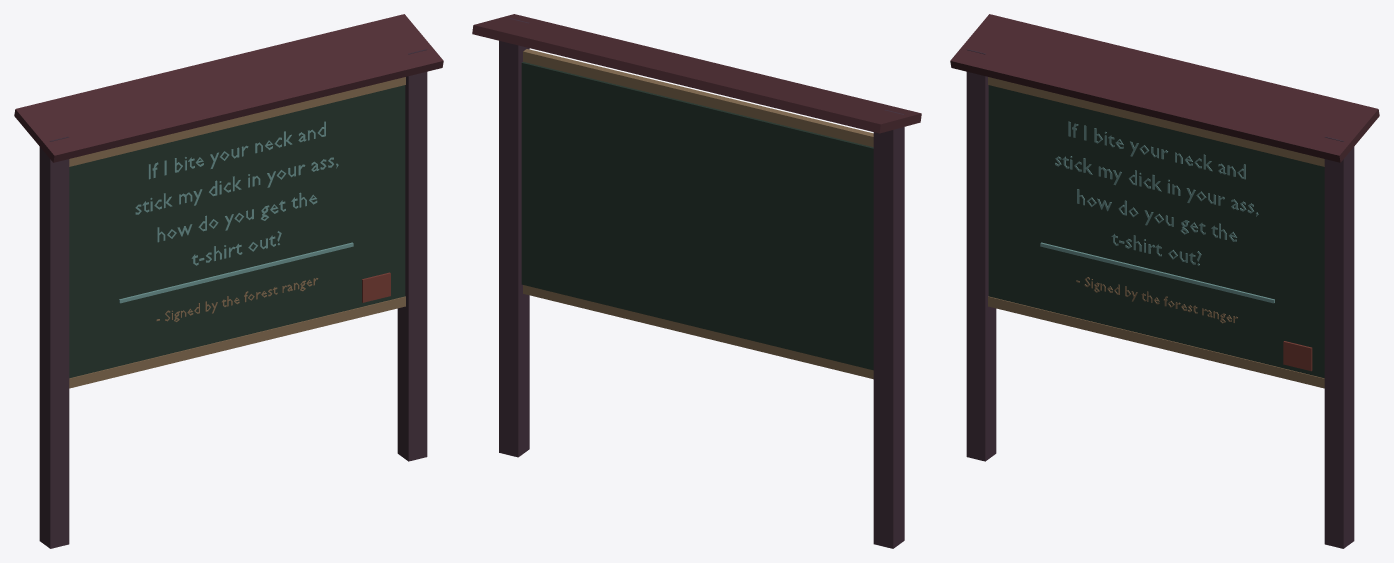
File: panou_ocol.glb
The picture shows the model from 3 angles, left to right: view 1: azimuth 30°, elevation 25°; view 2: azimuth 150°, elevation 25°; view 3: azimuth 330°, elevation 25°; orthographic projection. The views are drawn at different scales.
Parts seen in each view (by area): view 1: PanouOcol; view 2: PanouOcol; view 3: PanouOcol.
Part boxes in pixels (x1=…): PanouOcol: x1=14, y1=14, x2=443, y2=548; PanouOcol: x1=472, y1=14, x2=921, y2=548; PanouOcol: x1=950, y1=14, x2=1379, y2=548.
Size of the model in its own units: 2.5 by 2.58 by 0.4484.
